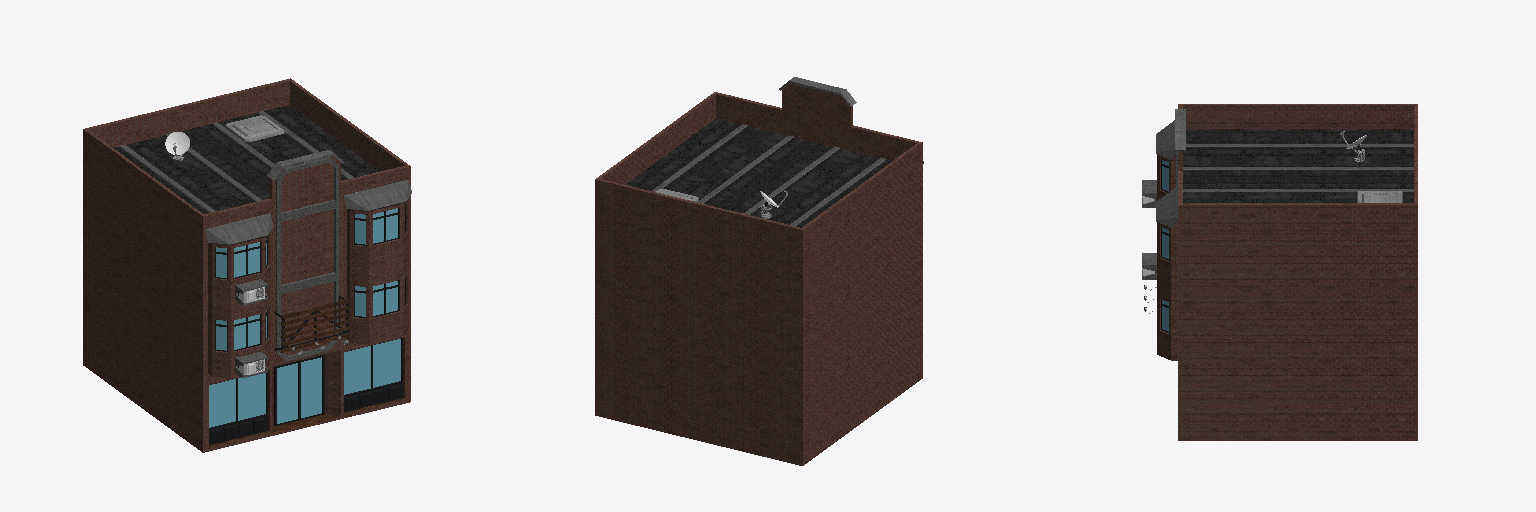
The picture shows the model from 3 angles: view 1: azimuth 30°, elevation 25°; view 2: azimuth 150°, elevation 25°; view 3: azimuth 270°, elevation 25°; orthographic projection.
Visible parts, largest first — view 1: Building_Small_DownTown2_Building_Small_DownTown2_Mesh.001; view 2: Building_Small_DownTown2_Building_Small_DownTown2_Mesh.001; view 3: Building_Small_DownTown2_Building_Small_DownTown2_Mesh.001.
Boxes of the visible parts, x1=… form: Building_Small_DownTown2_Building_Small_DownTown2_Mesh.001: x1=83, y1=78, x2=411, y2=452; Building_Small_DownTown2_Building_Small_DownTown2_Mesh.001: x1=595, y1=77, x2=923, y2=465; Building_Small_DownTown2_Building_Small_DownTown2_Mesh.001: x1=1142, y1=104, x2=1417, y2=440.
Size of the model in its own units: 9 by 11.13 by 10.37.
12 materials, 10 textured.